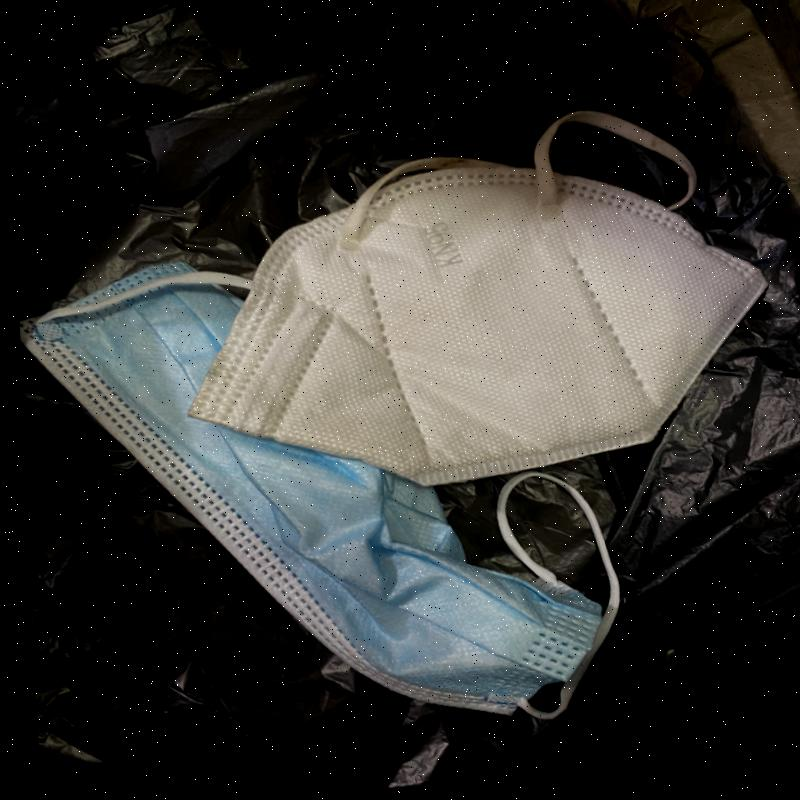facemask: (22, 261, 617, 718), (186, 111, 766, 489)
